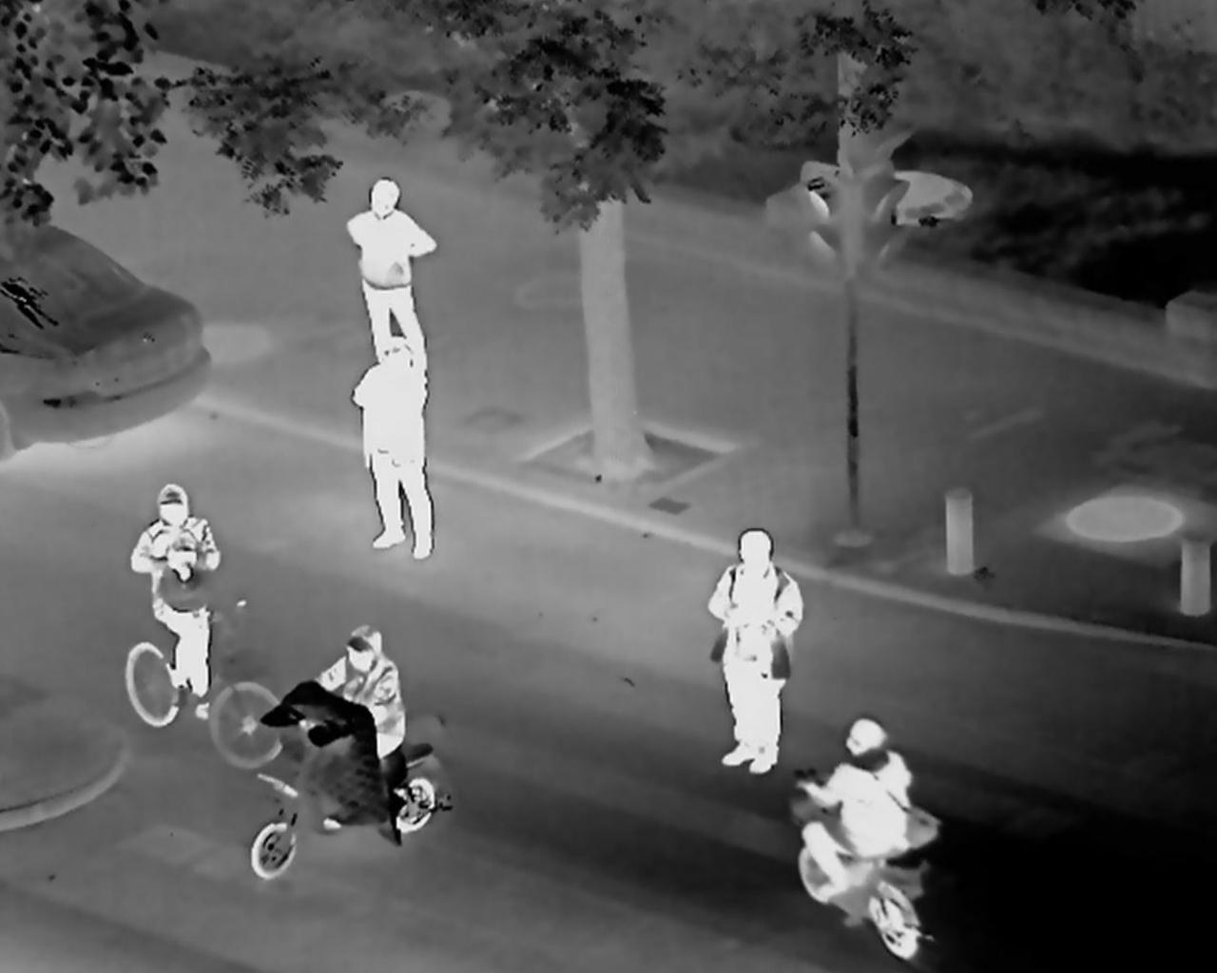person: (118, 480, 230, 695), (719, 521, 808, 774), (339, 340, 441, 557), (338, 162, 461, 332), (832, 714, 915, 919), (318, 616, 417, 762)
